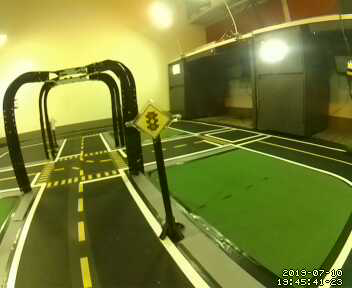Traffic light sign: (133, 102, 173, 137)
